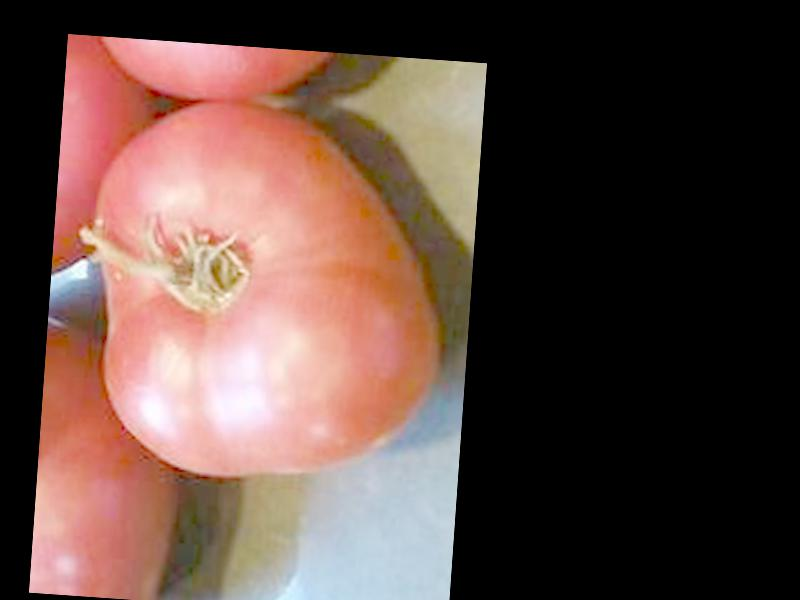Tomato: (78, 95, 452, 490)
